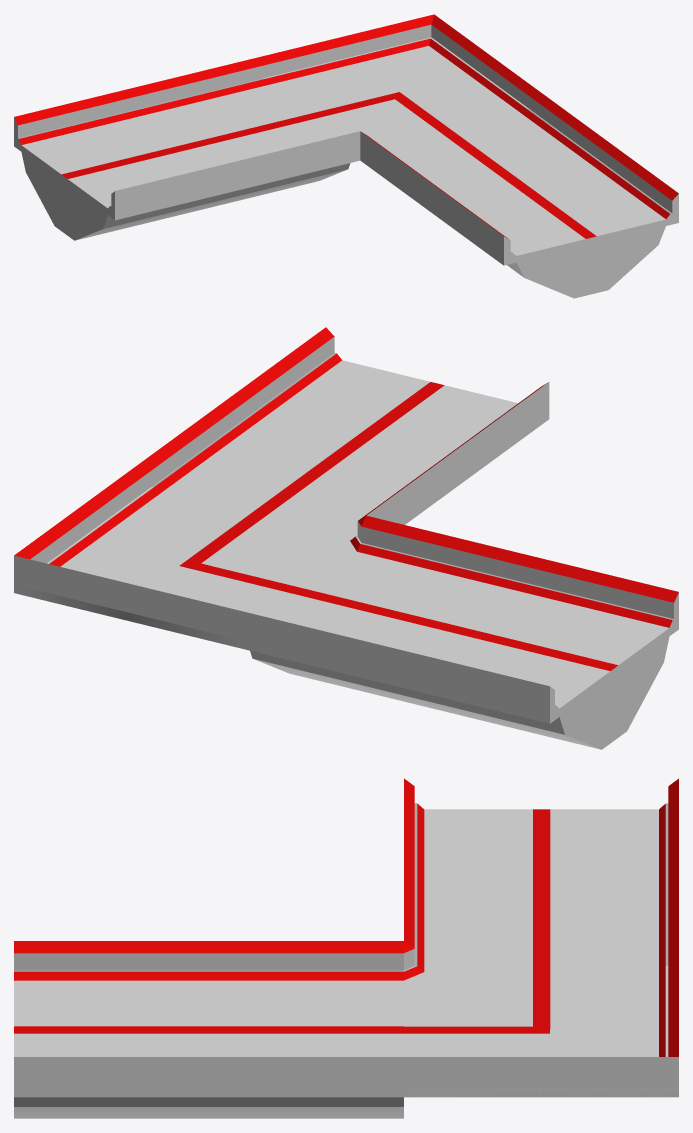
Rendered from road.fbx.
3 renders of one model, top to bottom at view 1: azimuth 30°, elevation 25°; view 2: azimuth 150°, elevation 25°; view 3: azimuth 270°, elevation 25°, orthographic. The views are drawn at different scales.
Visible parts, largest first — view 1: road_end, road_begin, road; view 2: road_end, road_begin, road; view 3: road_begin, road_end, road.
Part boxes in pixels (x1=…): road_end: x1=14, y1=58, x2=353, y2=240; road_begin: x1=364, y1=91, x2=678, y2=298; road: x1=253, y1=14, x2=538, y2=181; road_end: x1=245, y1=517, x2=678, y2=749; road_begin: x1=148, y1=327, x2=549, y2=537; road: x1=14, y1=458, x2=373, y2=674; road_begin: x1=14, y1=941, x2=394, y2=1118; road_end: x1=404, y1=778, x2=678, y2=967; road: x1=394, y1=937, x2=678, y2=1118.
Bounding box in the file's own units: 67.19 × 12.15 × 67.75.
